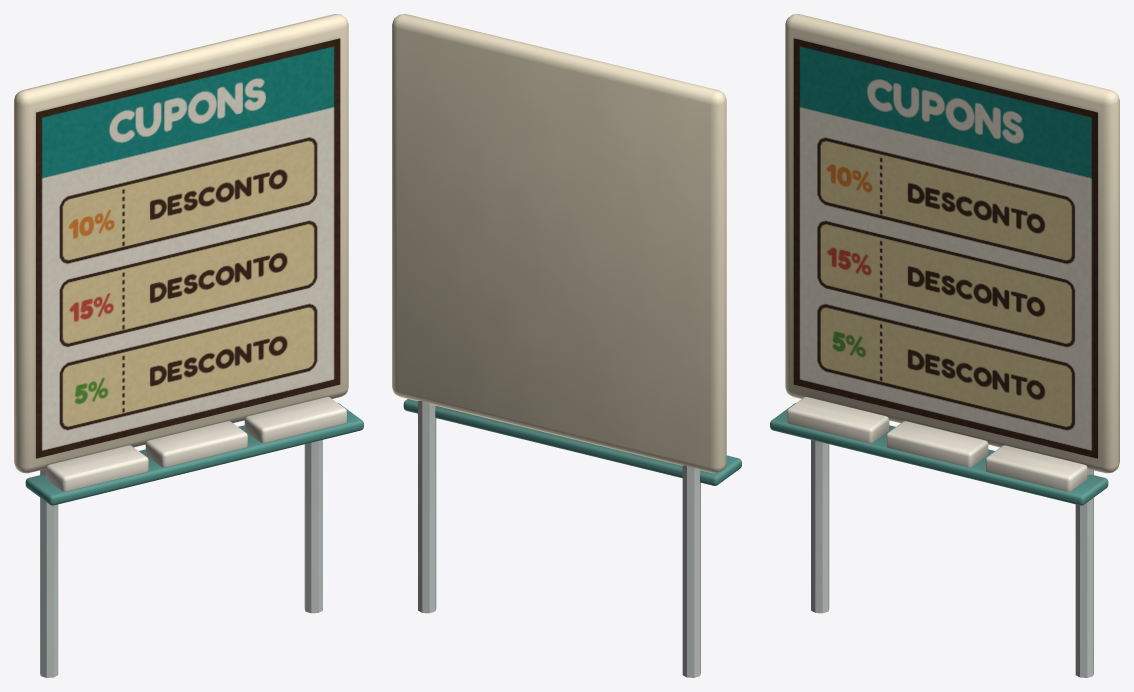
The model's file is CouponStand.fbx.
3 renders of one model, left to right at view 1: azimuth 30°, elevation 25°; view 2: azimuth 150°, elevation 25°; view 3: azimuth 330°, elevation 25°, orthographic.
Visible parts, largest first — view 1: CouponStand; view 2: CouponStand; view 3: CouponStand.
Part boxes in pixels (x1,y1,x2,y2): CouponStand: (14, 14, 363, 677); CouponStand: (392, 14, 741, 677); CouponStand: (770, 14, 1119, 677).
Size of the model in its own units: 100 by 170 by 17.
